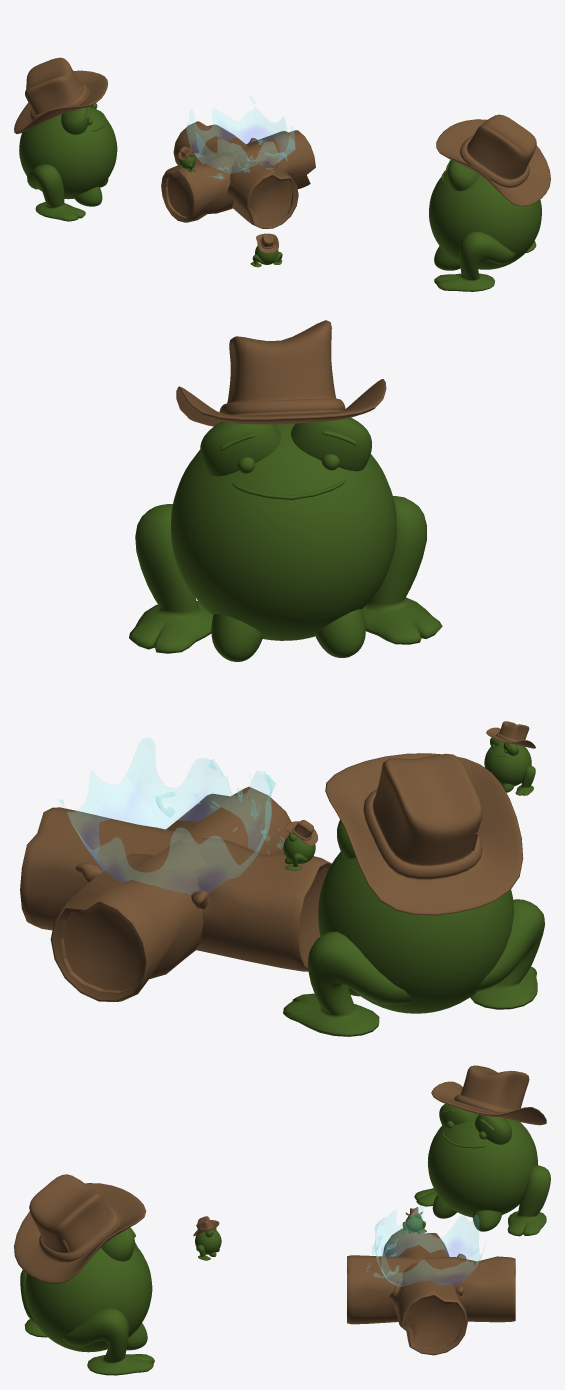
Rendered from dan_fire_03.glb.
3 views of the same model, one above another, from view 1: azimuth 30°, elevation 25°; view 2: azimuth 150°, elevation 25°; view 3: azimuth 270°, elevation 25° (orthographic). The views are drawn at different scales.
Visible parts, largest first — view 1: frog_boi (×3), log_boi (×2), hat_boi (×3), Large Fire; view 2: frog_boi (×3), log_boi (×2), hat_boi (×2), Large Fire; view 3: frog_boi (×3), log_boi (×2), hat_boi (×2), Large Fire.
Boxes of the visible parts, left/top/right/bottom form: frog_boi (×3): left=19, top=103, right=541, bottom=291; log_boi (×2): left=161, top=121, right=315, bottom=228; hat_boi (×3): left=14, top=57, right=550, bottom=253; Large Fire: left=186, top=95, right=295, bottom=173; frog_boi (×3): left=129, top=417, right=544, bottom=1036; log_boi (×2): left=20, top=786, right=331, bottom=1001; hat_boi (×2): left=176, top=320, right=523, bottom=915; Large Fire: left=59, top=738, right=275, bottom=894; frog_boi (×3): left=20, top=1104, right=550, bottom=1375; log_boi (×2): left=347, top=1228, right=515, bottom=1355; hat_boi (×2): left=14, top=1065, right=546, bottom=1283; Large Fire: left=374, top=1205, right=485, bottom=1286.
Bounding box in the file's own units: 8.18 × 4.28 × 9.59.
3 materials, 1 textured.
